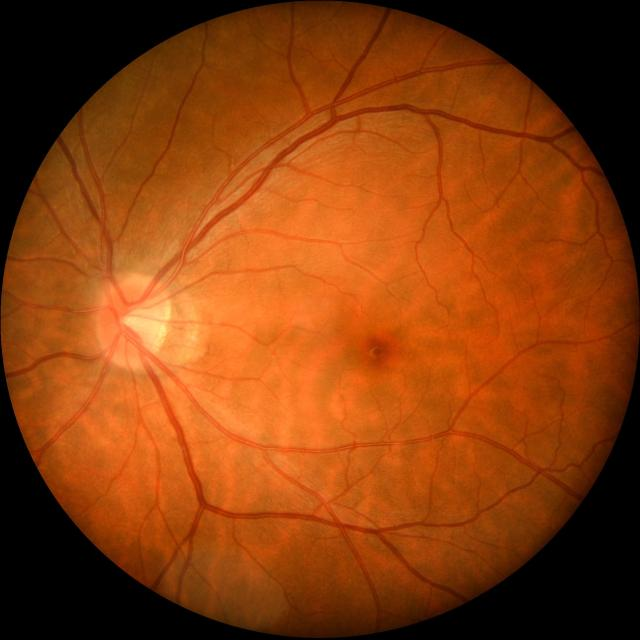OC: (119, 302, 160, 341)
OD: (94, 271, 170, 367)
